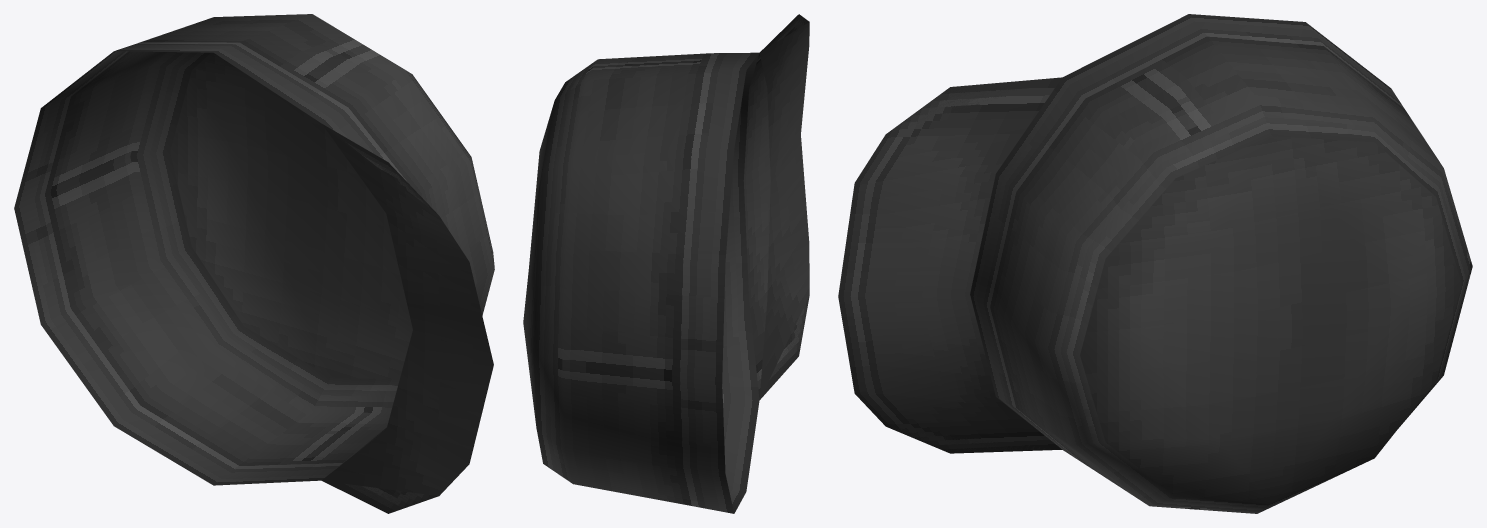
The model's file is cap_workcap.dae.
3 renders of one model, left to right at view 1: azimuth 30°, elevation 25°; view 2: azimuth 150°, elevation 25°; view 3: azimuth 270°, elevation 25°, orthographic. The views are drawn at different scales.
Visible parts, largest first — view 1: cap_workcap; view 2: cap_workcap; view 3: cap_workcap.
Boxes of the visible parts, box(x1,y1,x2,y2) form: cap_workcap: box(14, 14, 494, 513); cap_workcap: box(523, 14, 809, 513); cap_workcap: box(838, 14, 1472, 513).
Size of the model in its own units: 16.09 by 21.14 by 26.95.
Materials: 1 (1 with a texture image).
